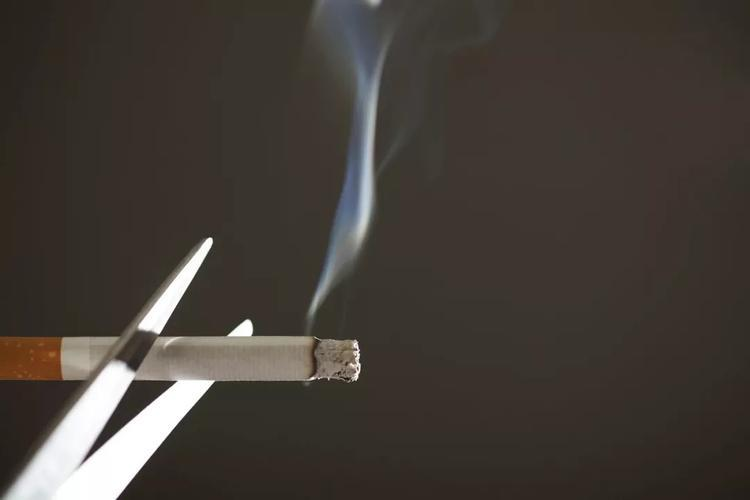smoke: (0, 336, 364, 384)
